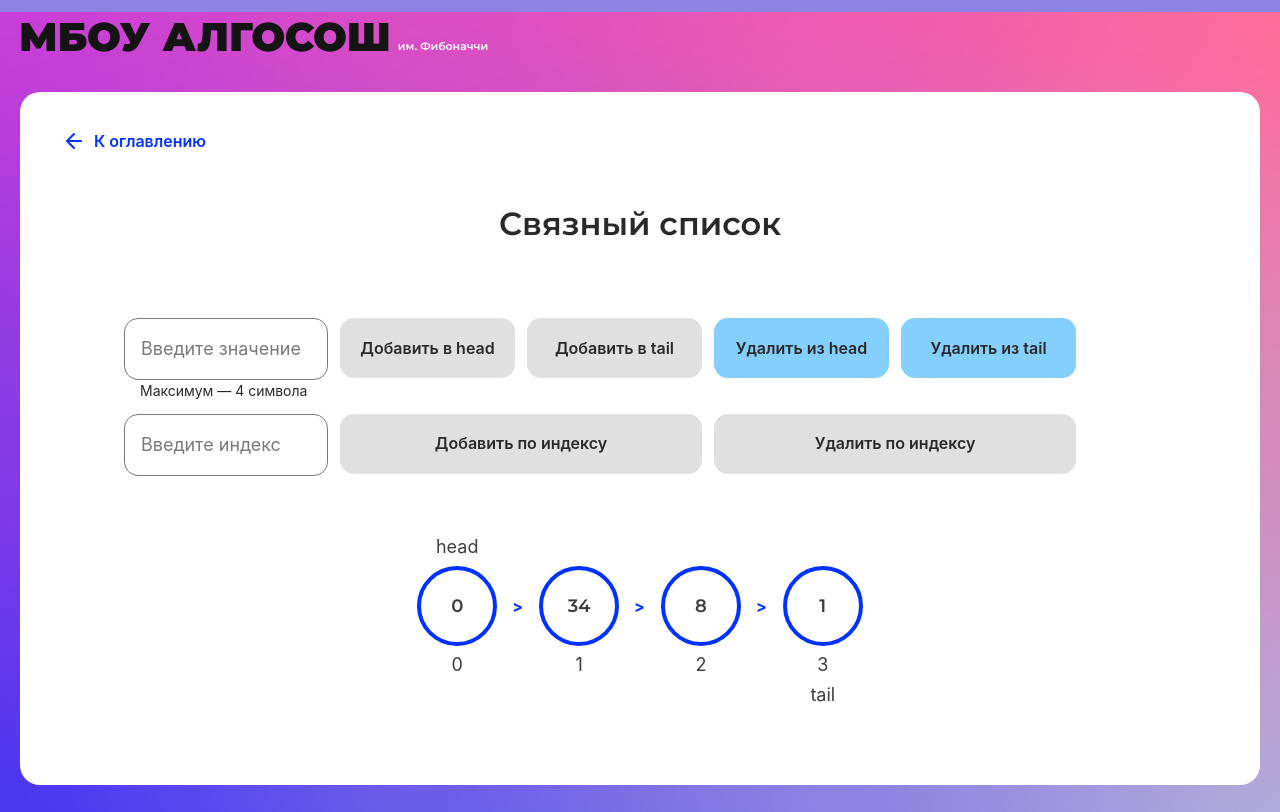
Test case: List Page › Корректное добавление элемента в head
The width and height of the screenshot is (1280, 812).
Type "75" into the field with test id "listSymbolInput" at (226, 349), box [124,318,328,380]
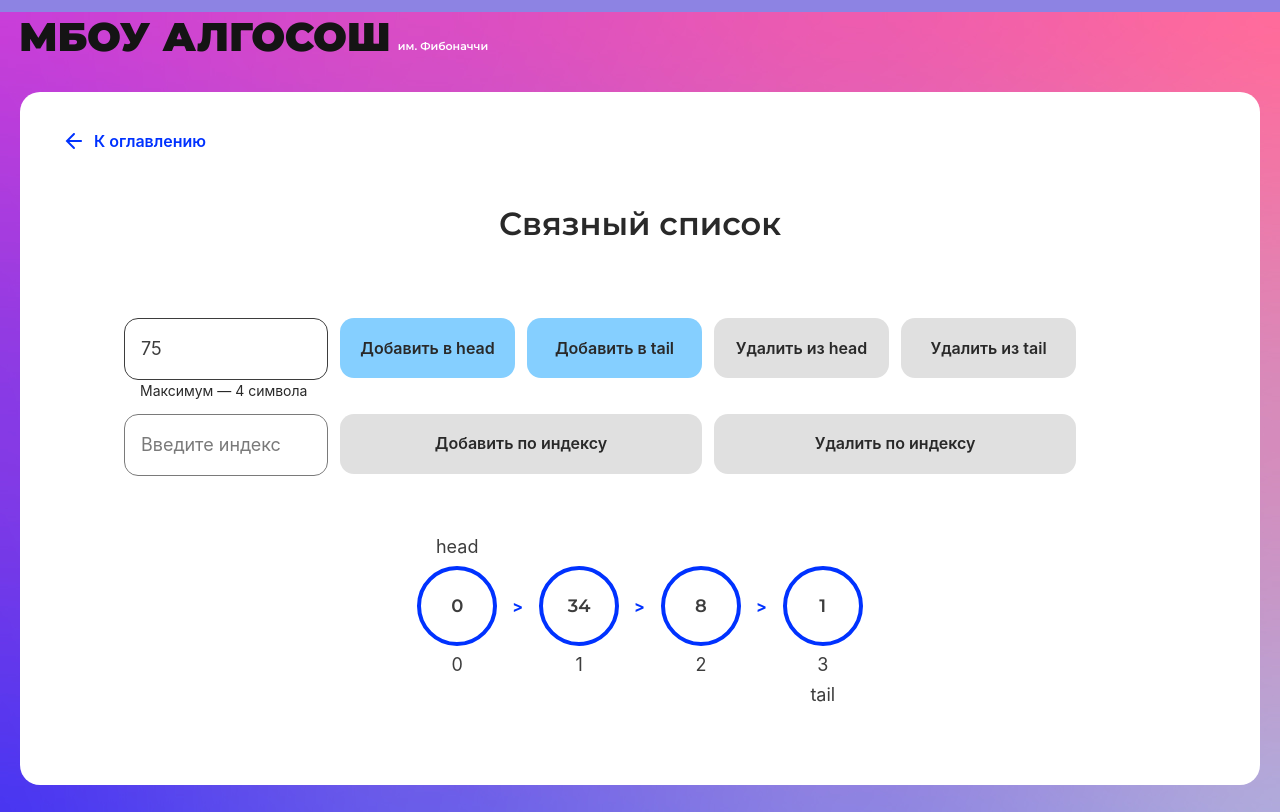
Click the button with test id "addToHead" at (428, 348), box [340,318,515,378]
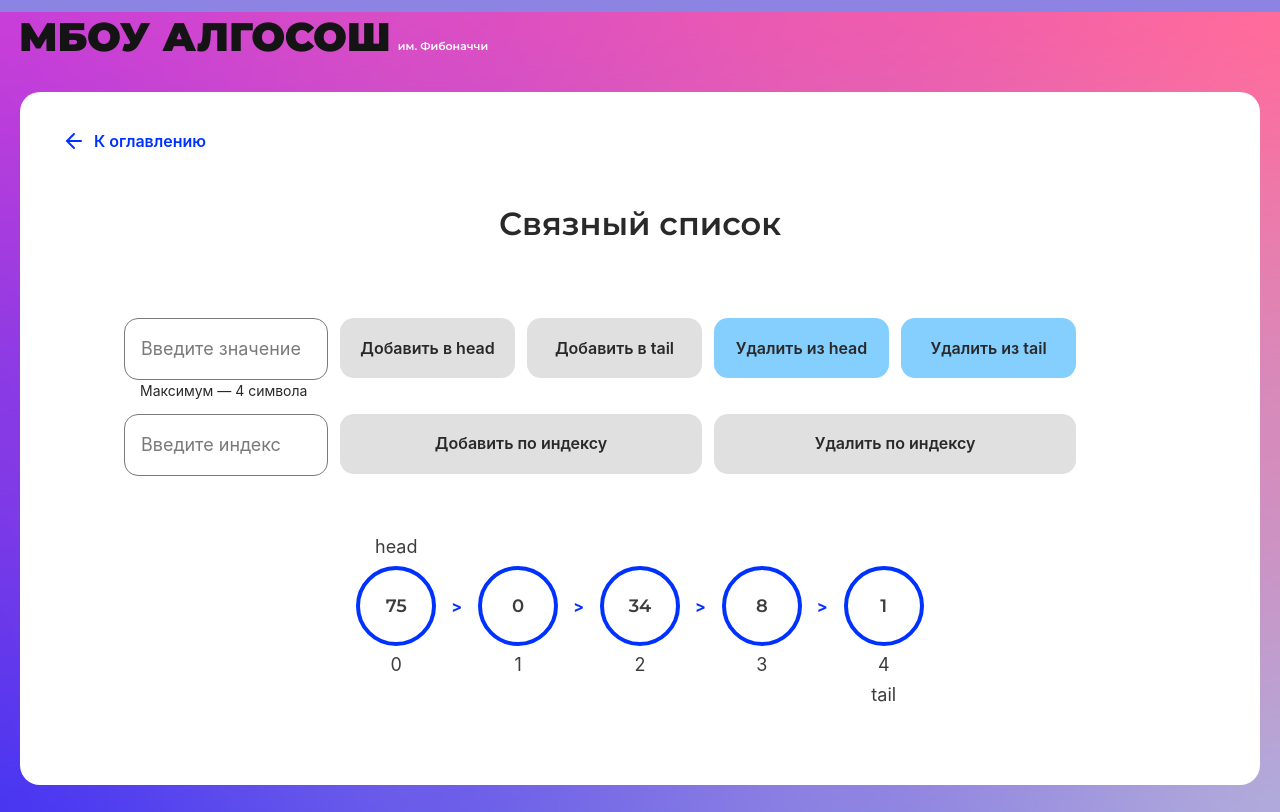
expect the text "head" is shown: met, box [375,536,418,558]
expect the element with test id "circle" reads "75": met, box [356,566,436,646]
